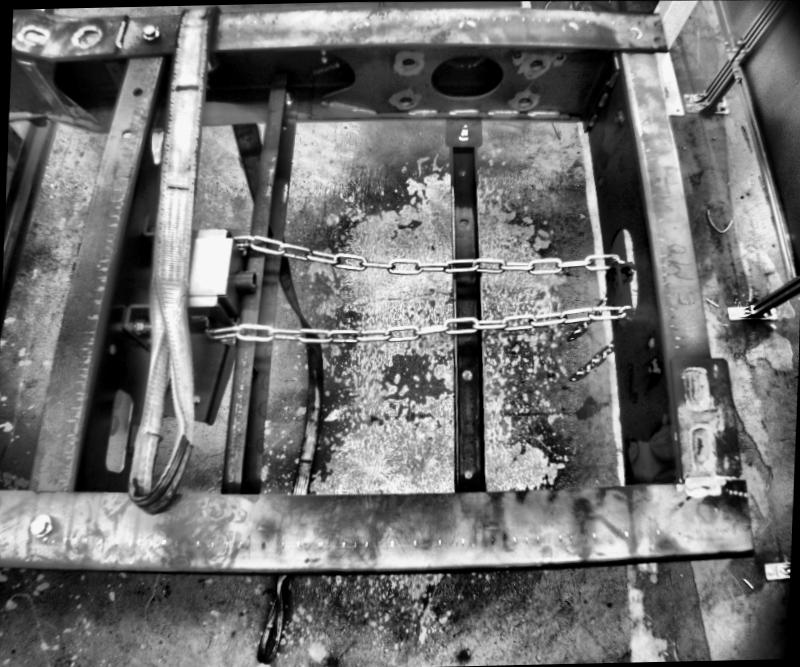bolt: (32, 513, 54, 535), (140, 22, 160, 44), (644, 356, 662, 376), (134, 320, 156, 336), (276, 88, 294, 103), (457, 122, 468, 142), (615, 108, 624, 122)
bracket: (600, 257, 624, 304)
hole: (428, 50, 505, 98), (104, 382, 136, 478), (398, 54, 418, 68), (400, 94, 415, 108), (527, 56, 542, 68), (517, 95, 531, 106), (457, 215, 468, 227), (461, 368, 472, 380), (644, 335, 656, 346), (463, 469, 474, 480), (107, 342, 117, 354), (132, 84, 142, 95), (120, 127, 131, 137), (459, 166, 467, 174)
welding: (606, 70, 618, 87), (582, 114, 596, 128), (593, 98, 607, 110)
